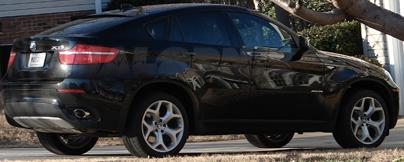back_view: (2, 38, 129, 136)
backlight: (52, 40, 122, 70)
side_glass: (146, 6, 301, 53)
